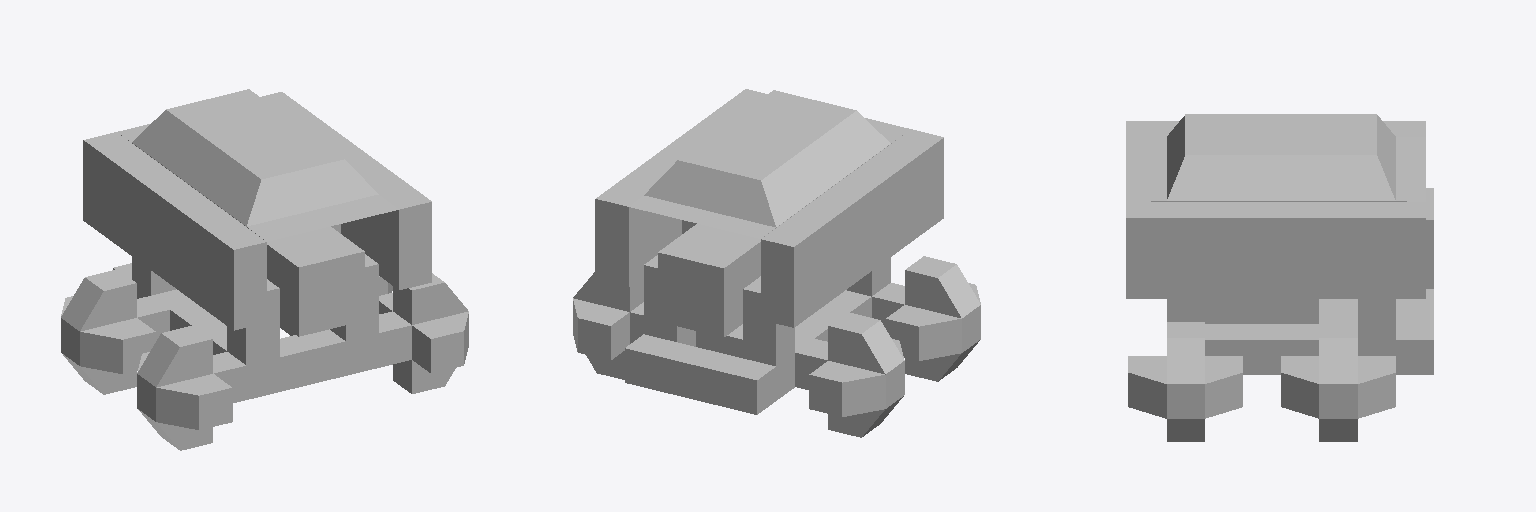
File: RamMeshBig4.obj
3 renders of one model, left to right at view 1: azimuth 30°, elevation 25°; view 2: azimuth 150°, elevation 25°; view 3: azimuth 270°, elevation 25°, orthographic.
Visible parts, largest first — view 1: RamMeshBig4; view 2: RamMeshBig4; view 3: RamMeshBig4.
Part boxes in pixels (bbox=[...]): RamMeshBig4: bbox=[61, 89, 468, 450]; RamMeshBig4: bbox=[573, 89, 980, 437]; RamMeshBig4: bbox=[1126, 114, 1433, 441].
Bounding box in the file's own units: 0.9455 × 0.7 × 0.8067.